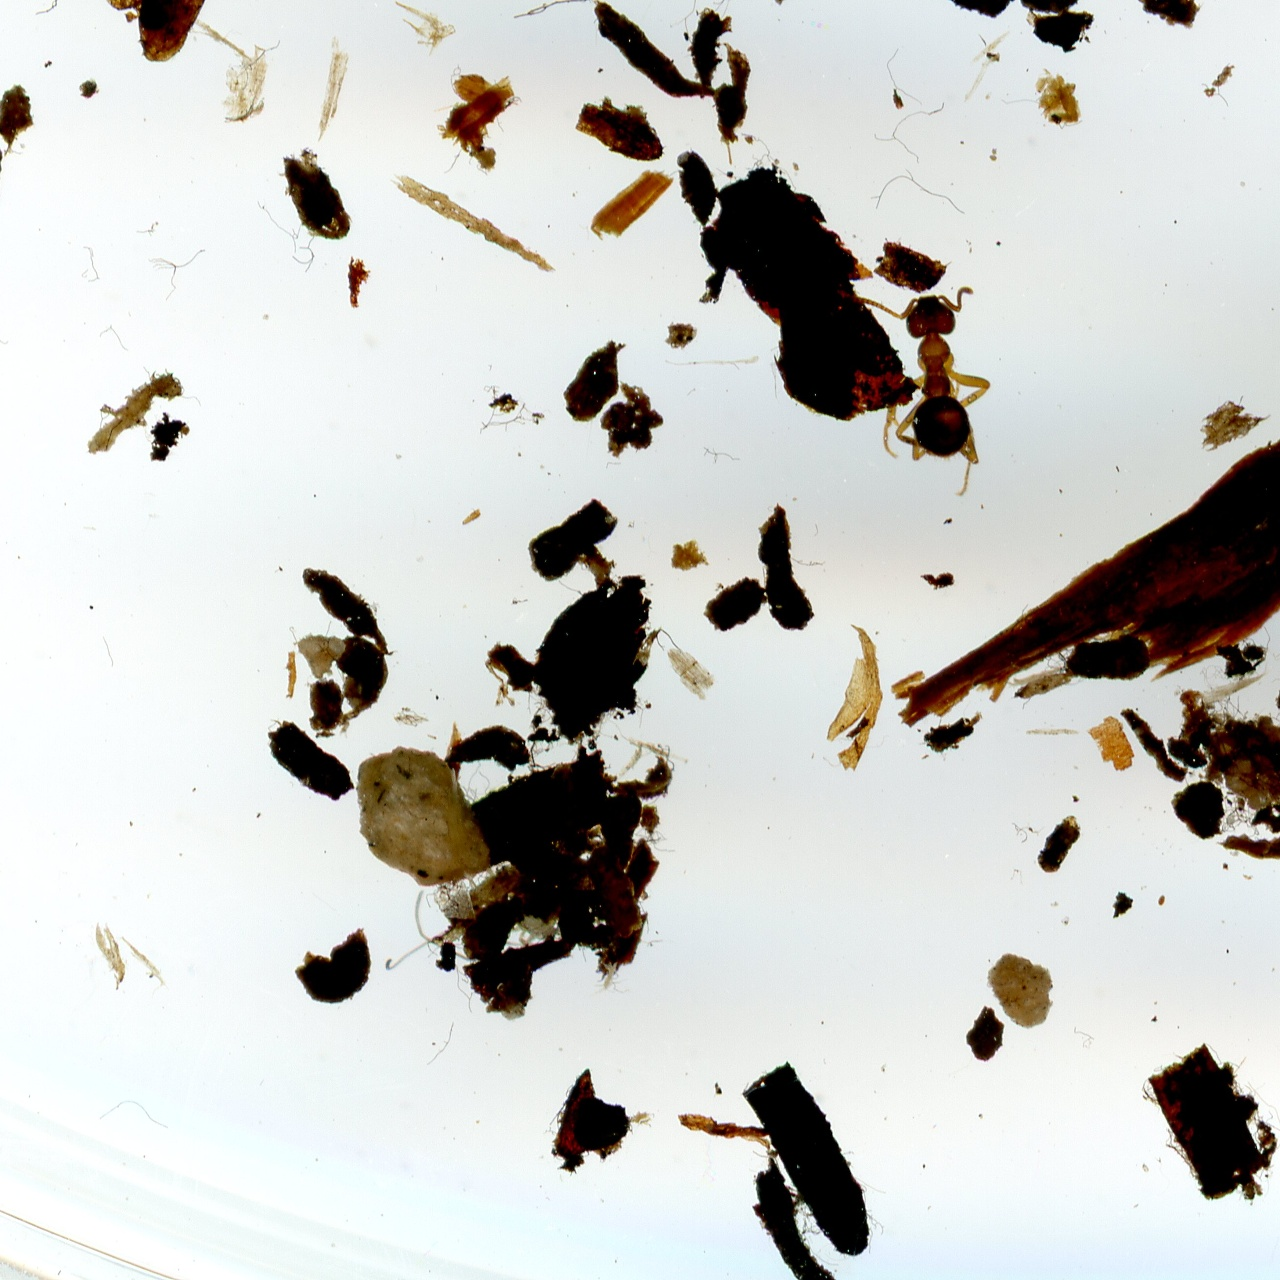arthropod: (850, 283, 993, 500)
